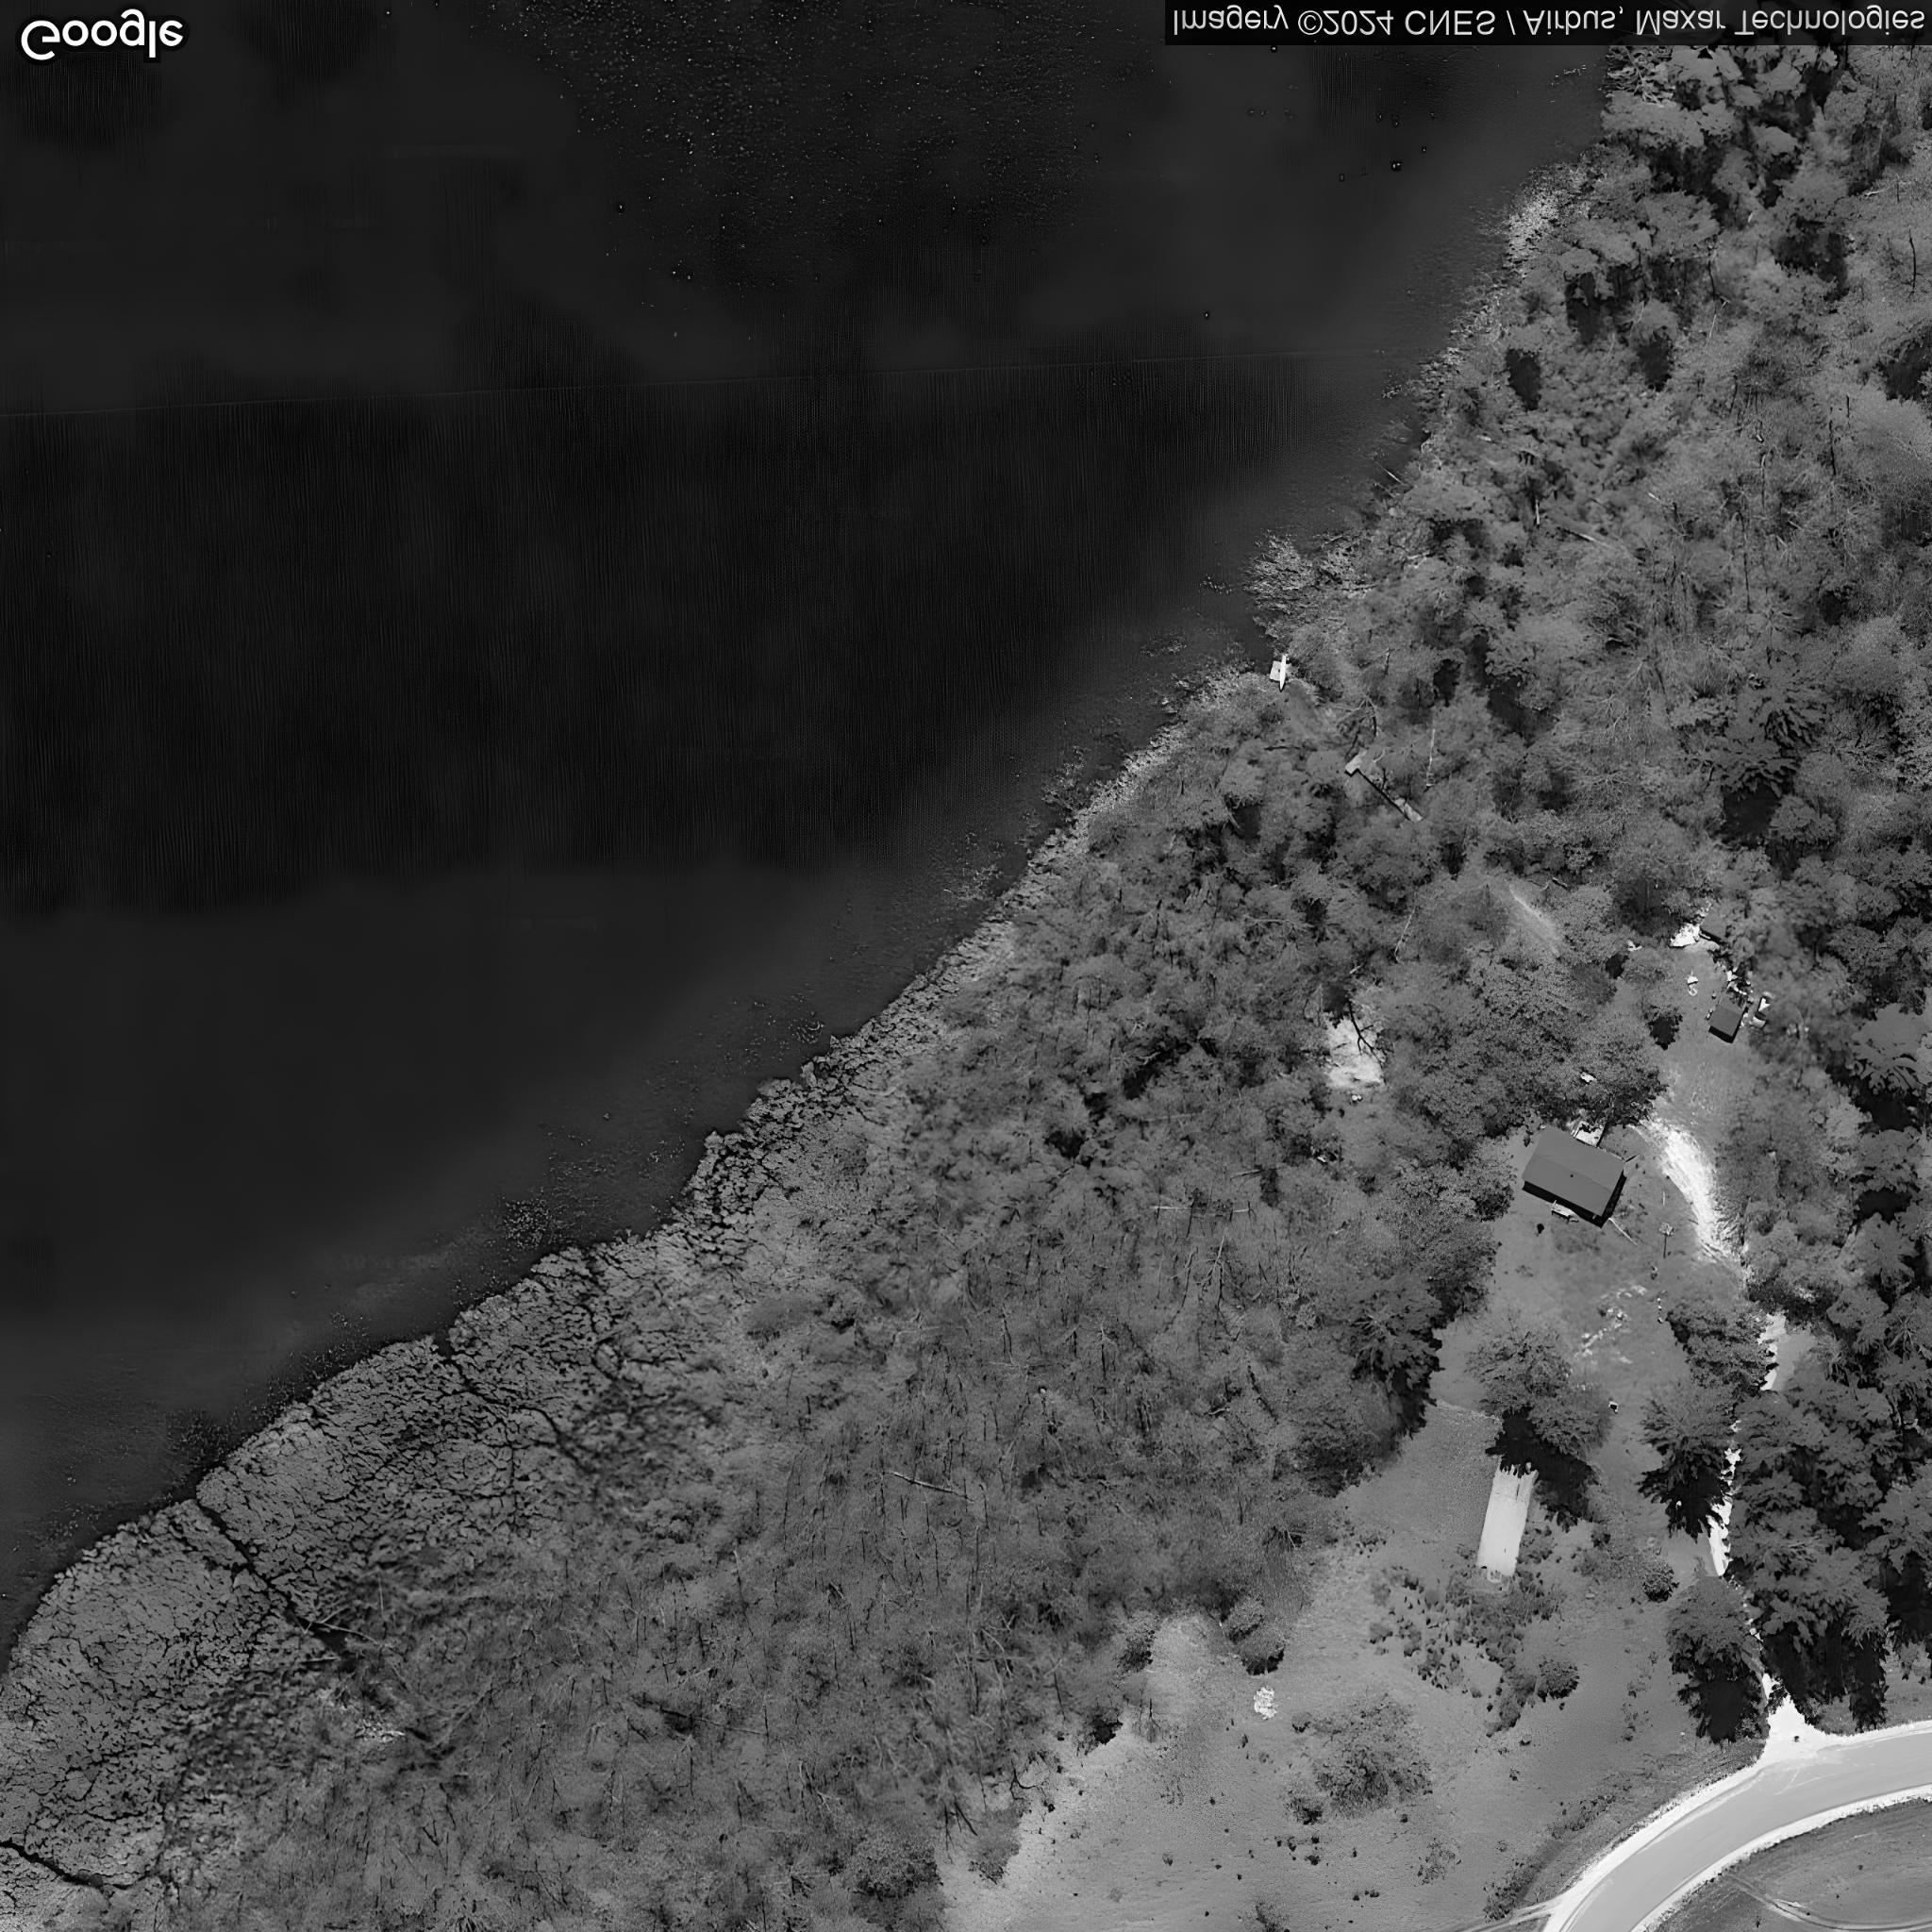House: (1520, 1122, 1629, 1219)
